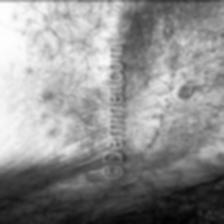Toxin: (178, 81, 202, 100), (164, 22, 183, 36)
